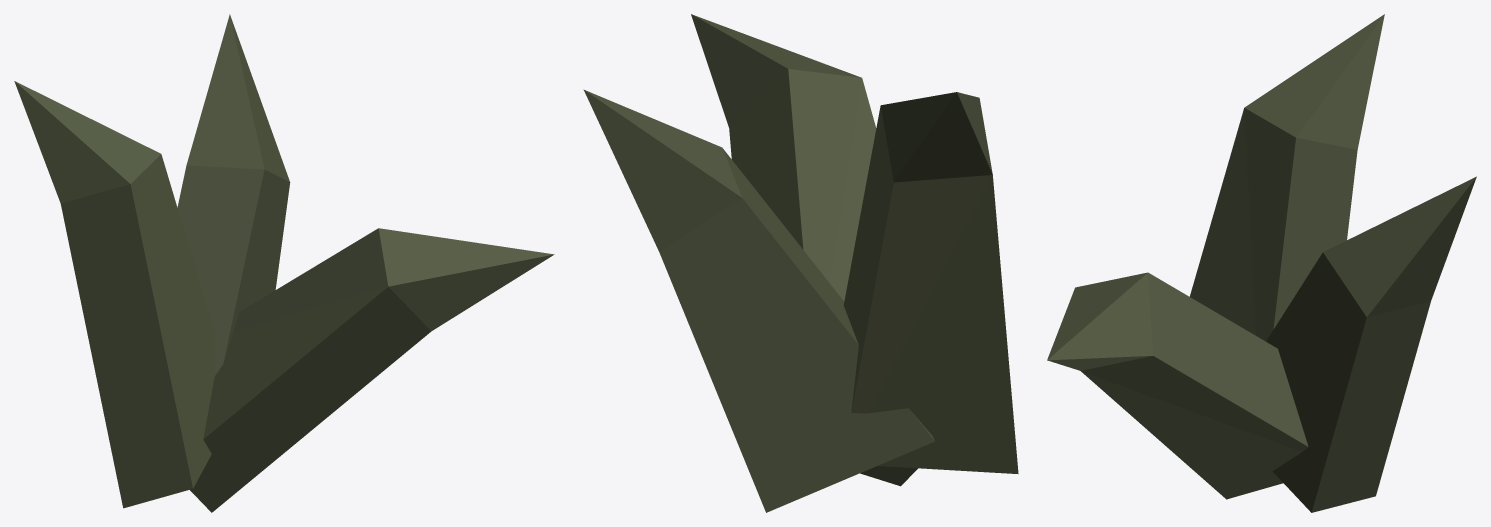
Rendered from nature_SM_Plant_Grass_01.gltf.
The picture shows the model from 3 angles, left to right: view 1: azimuth 30°, elevation 25°; view 2: azimuth 150°, elevation 25°; view 3: azimuth 270°, elevation 25°; orthographic projection. The views are drawn at different scales.
Parts seen in each view (by area): view 1: SM_Plant_Grass_01; view 2: SM_Plant_Grass_01; view 3: SM_Plant_Grass_01.
Boxes of the visible parts, left/top/right/bottom form: SM_Plant_Grass_01: left=14, top=14, right=554, bottom=512; SM_Plant_Grass_01: left=583, top=14, right=1018, bottom=512; SM_Plant_Grass_01: left=1047, top=14, right=1476, bottom=512.
Size of the model in its own units: 0.00299 by 0.00306 by 0.00282.
Materials: 1 (1 with a texture image).
